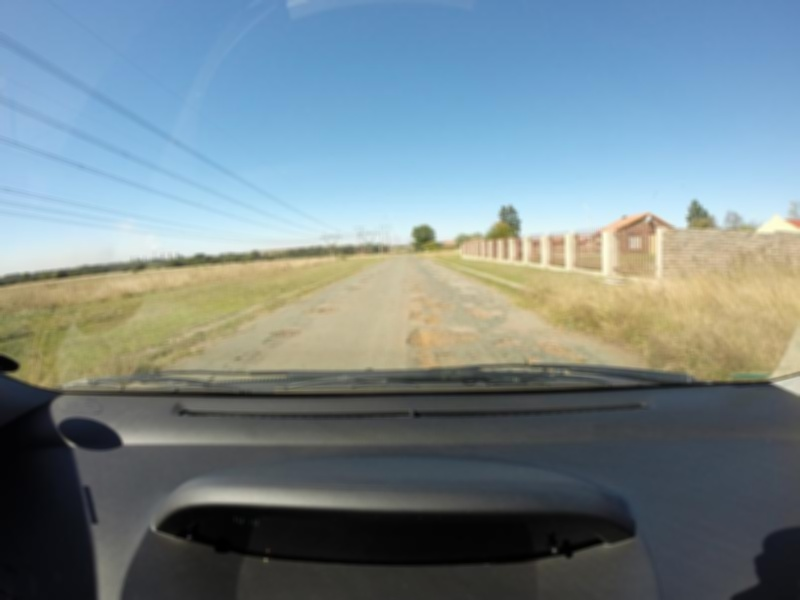pothole: (408, 325, 480, 349), (466, 300, 520, 322), (400, 302, 448, 321), (542, 339, 583, 361), (233, 350, 268, 372), (270, 326, 308, 342), (303, 304, 345, 317), (493, 332, 523, 350), (329, 288, 360, 300)
